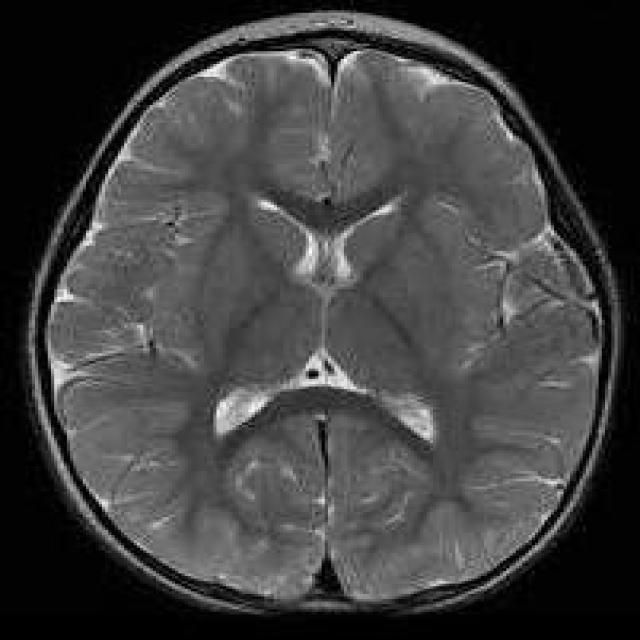No_Tumor: (28, 12, 619, 613)
